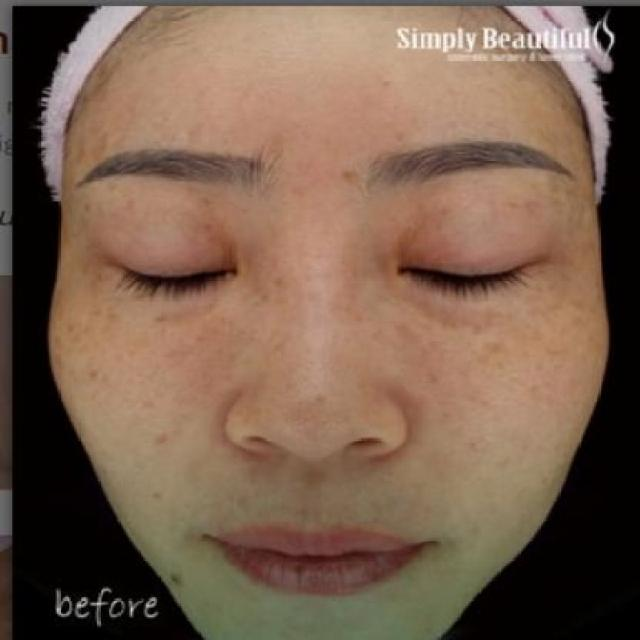Melasma: (62, 278, 238, 422), (389, 294, 604, 403)
